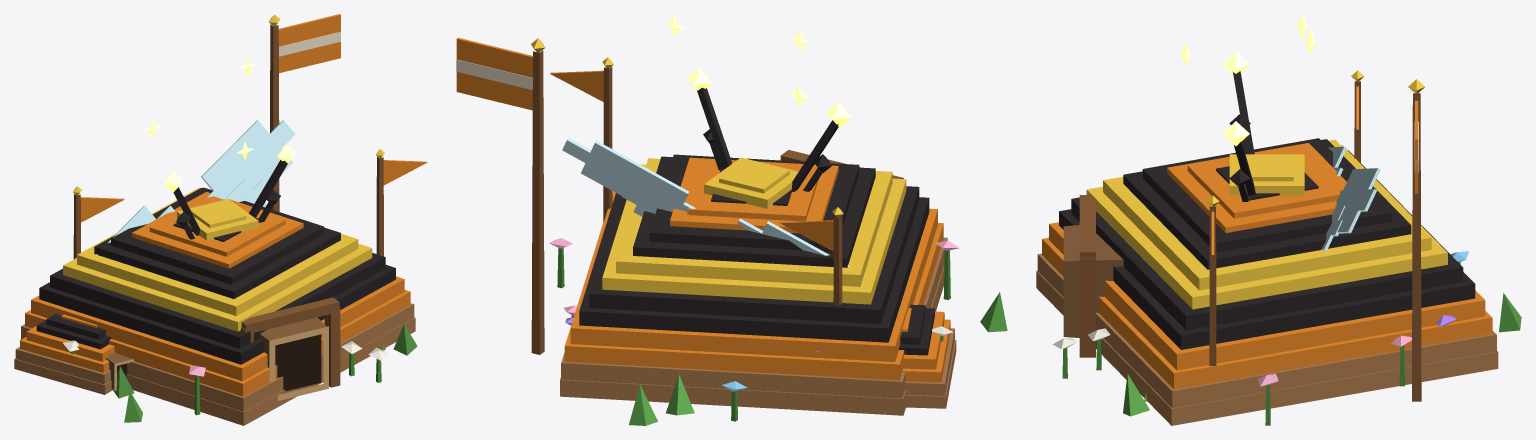
Rendered from bumblebee-burrow-blocky.glb.
The picture shows the model from 3 angles, left to right: view 1: azimuth 30°, elevation 25°; view 2: azimuth 150°, elevation 25°; view 3: azimuth 270°, elevation 25°; orthographic projection. The views are drawn at different scales.
Visible parts, largest first — view 1: lv3, lv2; view 2: lv3, lv2; view 3: lv3, lv2.
Part boxes in pixels (x1,y1,x2,y2): lv3: (14,14,427,425); lv2: (73,179,385,398); lv3: (456,14,1007,425); lv2: (564,129,843,415); lv3: (1036,14,1521,425); lv2: (1088,70,1411,401).
Bounding box in the file's own units: 1.96 × 1.35 × 1.79.
